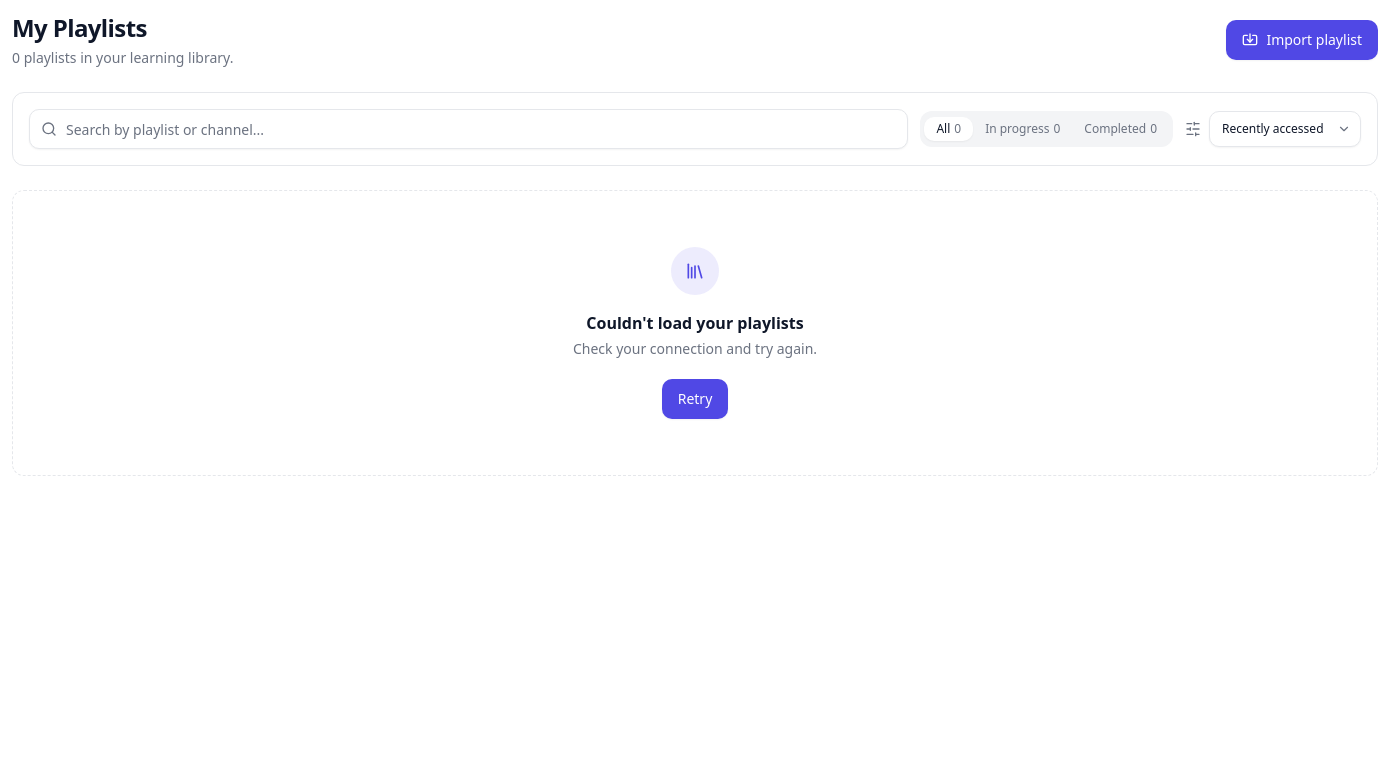
playlist library › shows an error state and can retry
This screenshot has width=1390, height=780.
Expected: the heading "Couldn't load your playlists" is shown, top-left (586, 311), bottom-right (804, 335)
What coordinates should you click on to do the following:
click the button "Retry"
I would click on:
 (695, 399)
Its box is top-left (662, 379), bottom-right (728, 419).
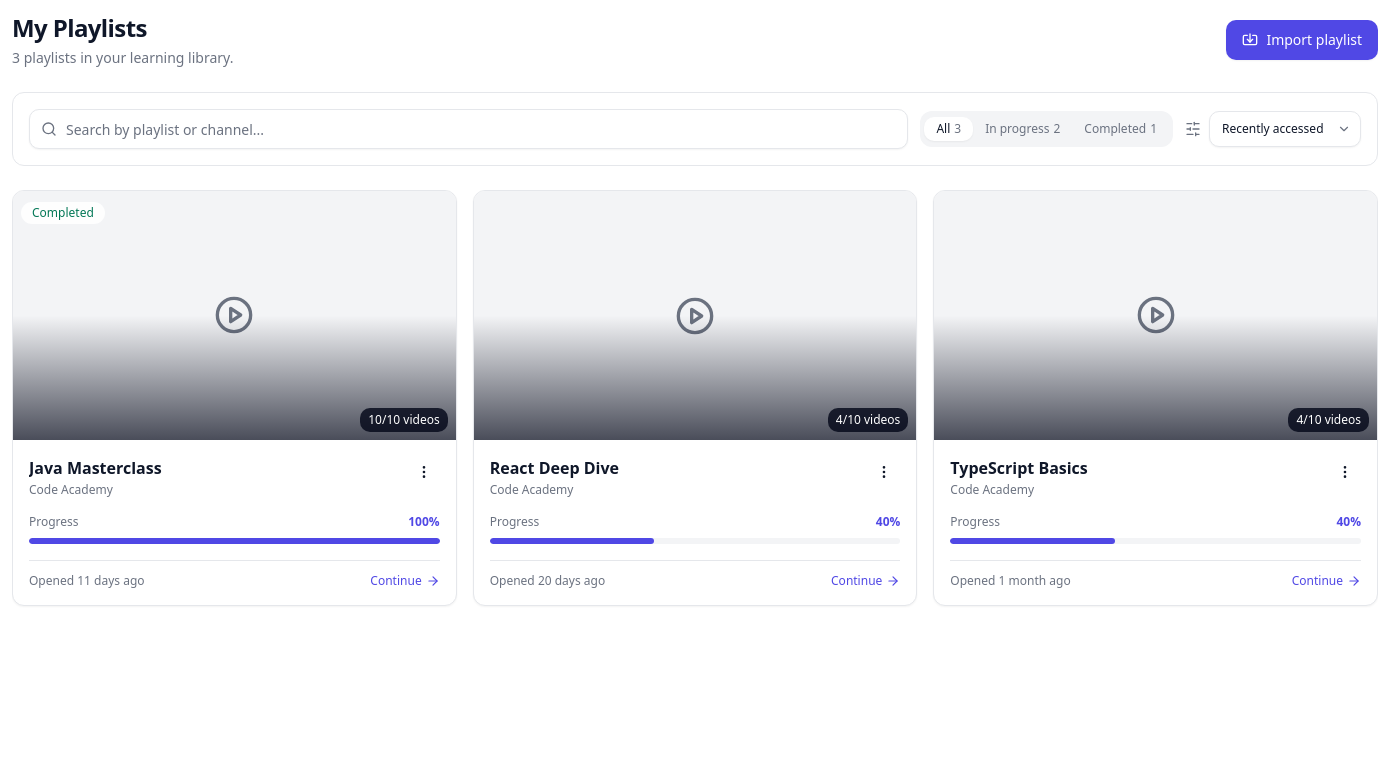
Expected: the link "React Deep Dive" is shown, top-left (490, 456), bottom-right (619, 480)
